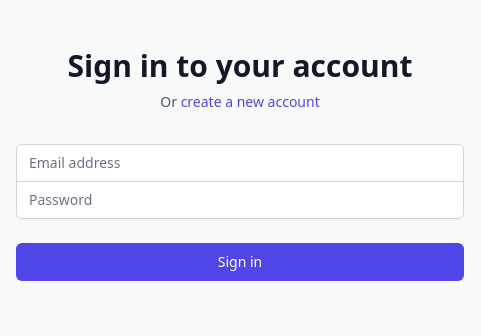
it: Login Component › displays generic error message when no specific error is provided
The image size is (481, 336).
Type "test@example.com" into the field with test id "email-input" at (240, 162), box [16,144,464,182]
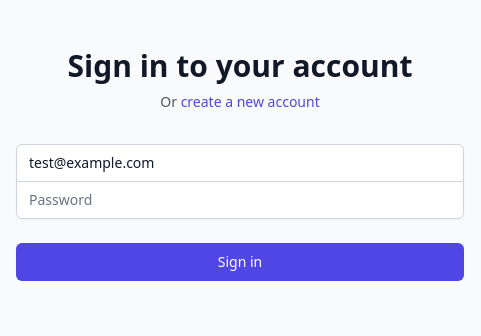
Type "password123" into the password field with test id "password-input" at (240, 200), box [16,180,464,218]
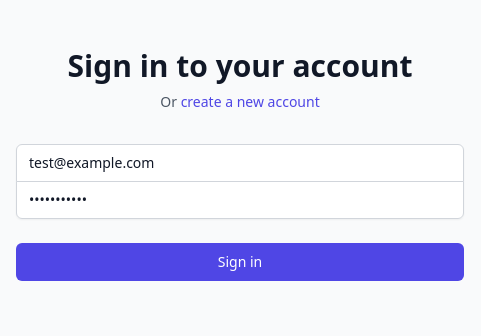
Click the button with test id "login-button" at (240, 262), box [16,242,464,280]
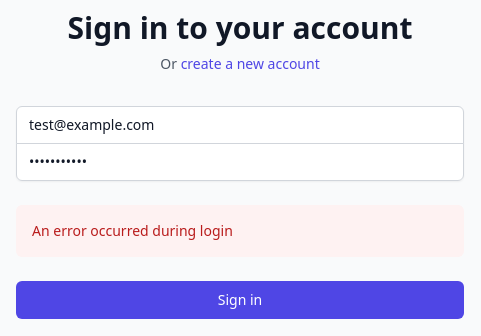
Now the text "An error occurred during login" is shown, box [32,220,233,240]
